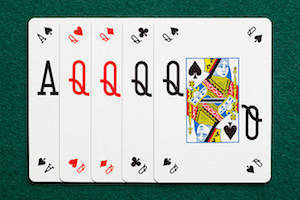AceOfSpades: (26, 16, 61, 188)
QueenOfClubs: (120, 19, 156, 184)
QueenOfDiamonds: (89, 16, 124, 185)
QueenOfHearts: (56, 18, 96, 184)
QueenOfSpades: (150, 16, 275, 187)
